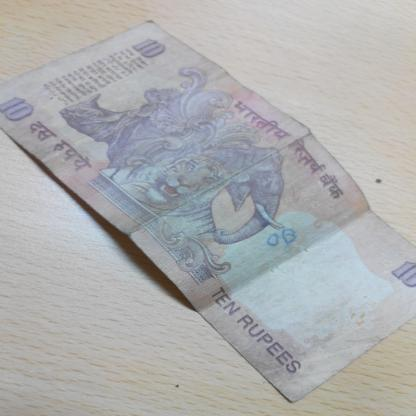Old10Back: (0, 18, 416, 404)
